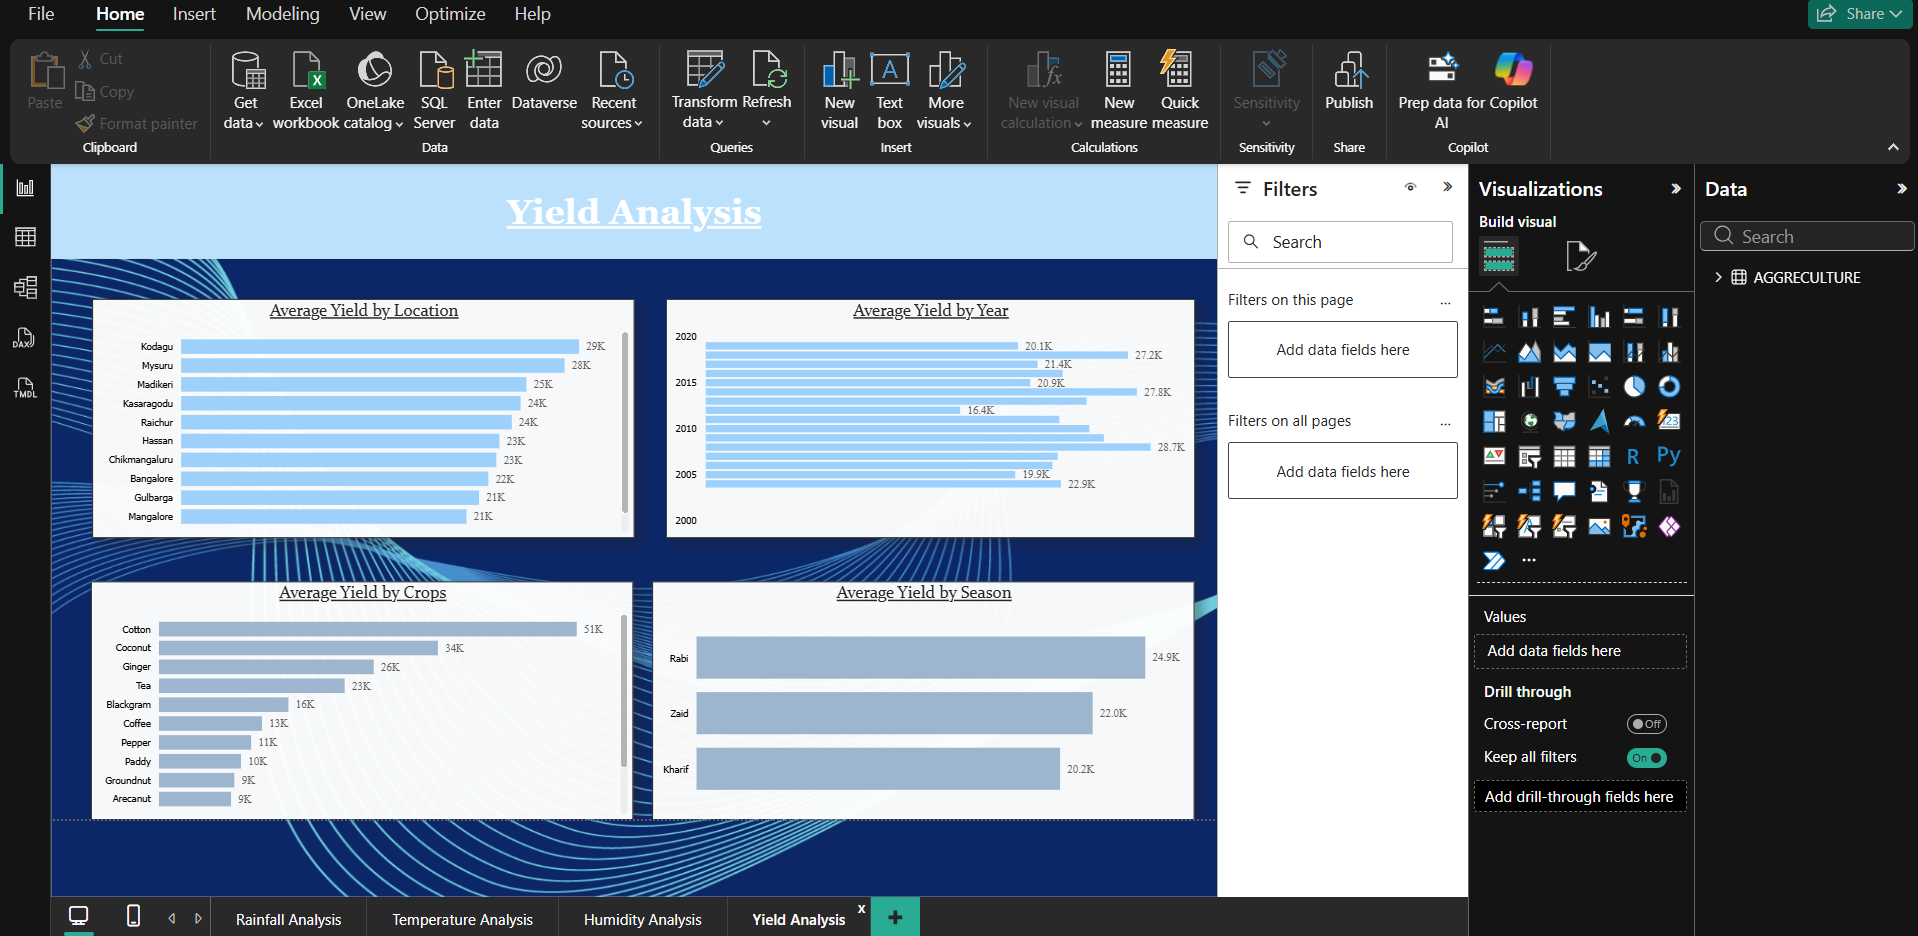

Layout of this report page (visuals, bound fields, positions):
{"tool":"powerbi","page":{"name":"Yield Analysis","canvas":[1280,720],"ordinal":3},"visuals":[{"type":"shape","box":[0,0,1280.3,104.3],"z":0},{"type":"barChart","title":"Average Yield by Year","fields":{"Category":["AGGRECULTURE.YEAR"],"Y":["Avg(AGGRECULTURE.YEILDS)"]},"box":[675.1,148.2,580.4,262.1],"z":1000},{"type":"barChart","title":"Average Yield by Season","fields":{"Category":["AGGRECULTURE.SEASON"],"Y":["Avg(AGGRECULTURE.YEILDS)"]},"box":[660,458.3,595.5,262.1],"z":2000},{"type":"barChart","title":"Average Yield by Crops","fields":{"Category":["AGGRECULTURE.CROPS"],"Y":["Avg(AGGRECULTURE.YEILDS)"]},"box":[43.9,458.3,595.5,262.1],"z":3000},{"type":"barChart","title":"Average Yield by Location","fields":{"Category":["AGGRECULTURE.LOCATION"],"Y":["Avg(AGGRECULTURE.YEILDS)"]},"box":[45.3,148.2,595.5,262.1],"z":4000}]}

Visuals, with their boxes on the page's 1280x720 design canvas (x1, y1, x2, y2). These are canvas units, not pixel positions in the 1918x936 screenshot, which may show the page scaled, cropped or inside an application window:
shape: 0:0:1280:104
"Average Yield by Year" barChart: 675:148:1256:410
"Average Yield by Season" barChart: 660:458:1256:720
"Average Yield by Crops" barChart: 44:458:639:720
"Average Yield by Location" barChart: 45:148:641:410
